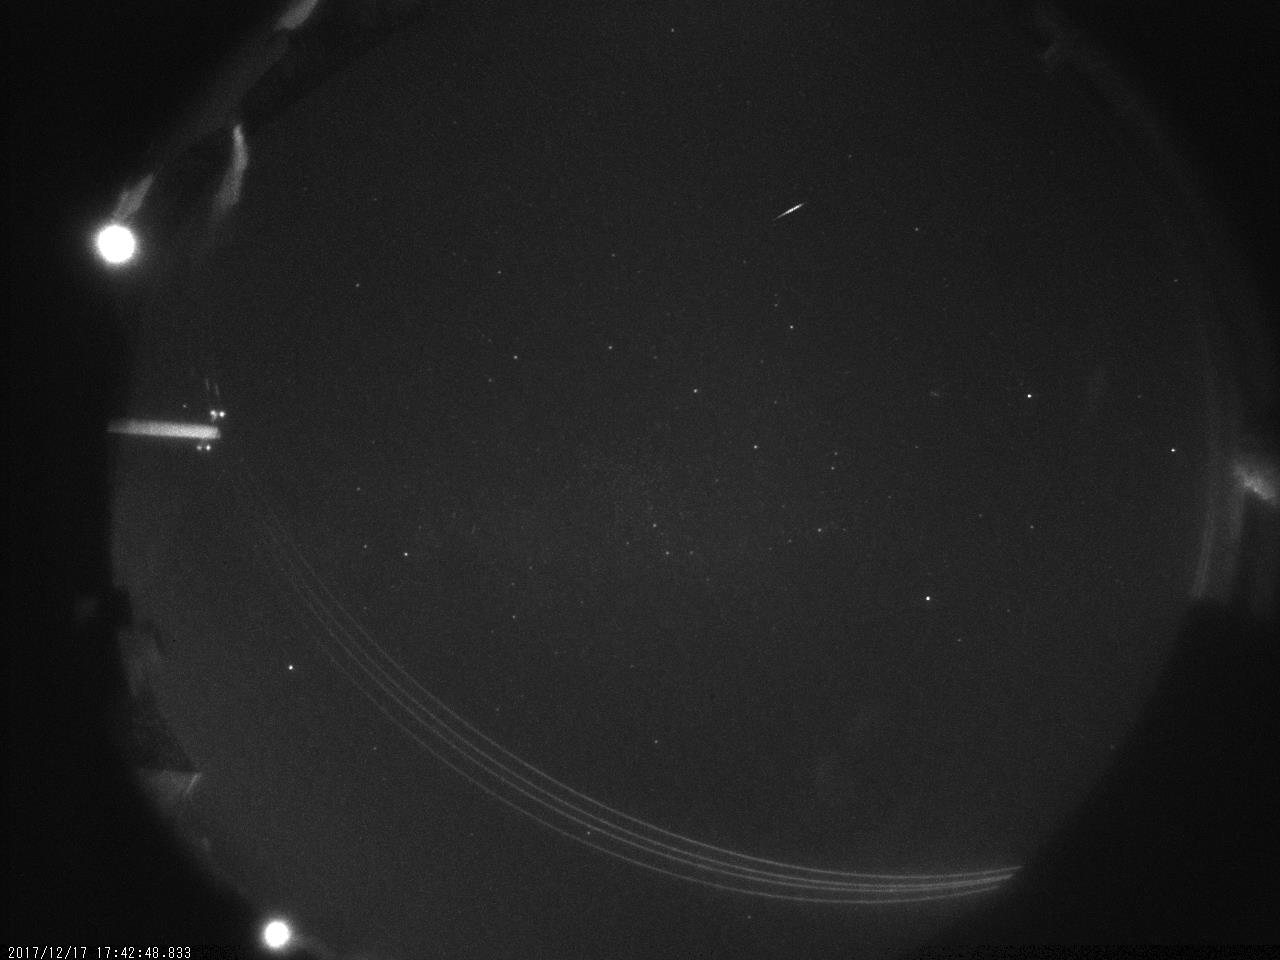meteor: (764, 190, 820, 230)
